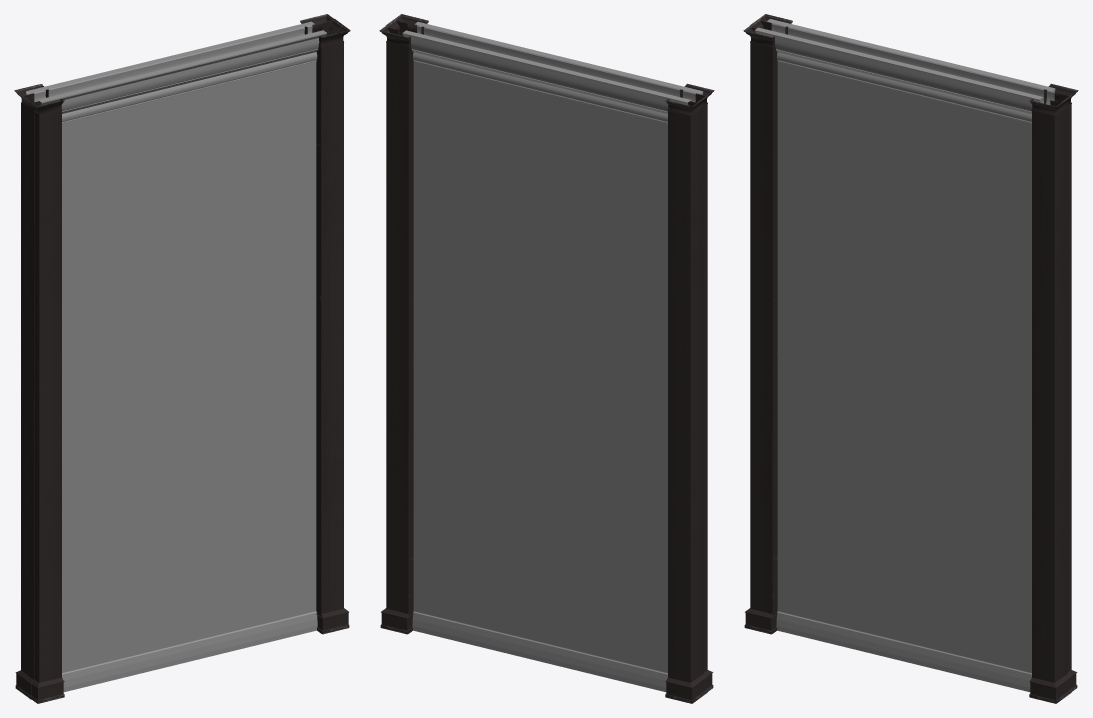
File: sm_wall_narrow_TS_01.FBX
3 views of the same model, side by side, from view 1: azimuth 30°, elevation 25°; view 2: azimuth 150°, elevation 25°; view 3: azimuth 330°, elevation 25° (orthographic).
Visible parts, largest first — view 1: sm_wall_01, Object003, Object008, Object009, sm_wall_002; view 2: sm_wall_002, Object009, Object007, sm_wall_01, Object008; view 3: sm_wall_01, Object003, Object008, sm_wall_002, Object007.
Boxes of the visible parts, <box> form: sm_wall_01: <box>38,30,326,692</box>; Object003: <box>316,18,350,634</box>; Object008: <box>22,93,64,703</box>; Object009: <box>14,84,48,699</box>; sm_wall_002: <box>26,21,314,102</box>; sm_wall_002: <box>402,30,690,692</box>; Object009: <box>665,93,708,703</box>; Object007: <box>379,19,413,634</box>; sm_wall_01: <box>415,22,703,102</box>; Object008: <box>680,83,714,691</box>; sm_wall_01: <box>754,27,1043,692</box>; Object003: <box>1029,93,1072,703</box>; Object008: <box>743,19,777,634</box>; sm_wall_002: <box>767,19,1055,104</box>; Object007: <box>1044,83,1078,691</box>.
Size of the model in its own units: 550 by 1001 by 68.52.
2 materials, 1 textured.
